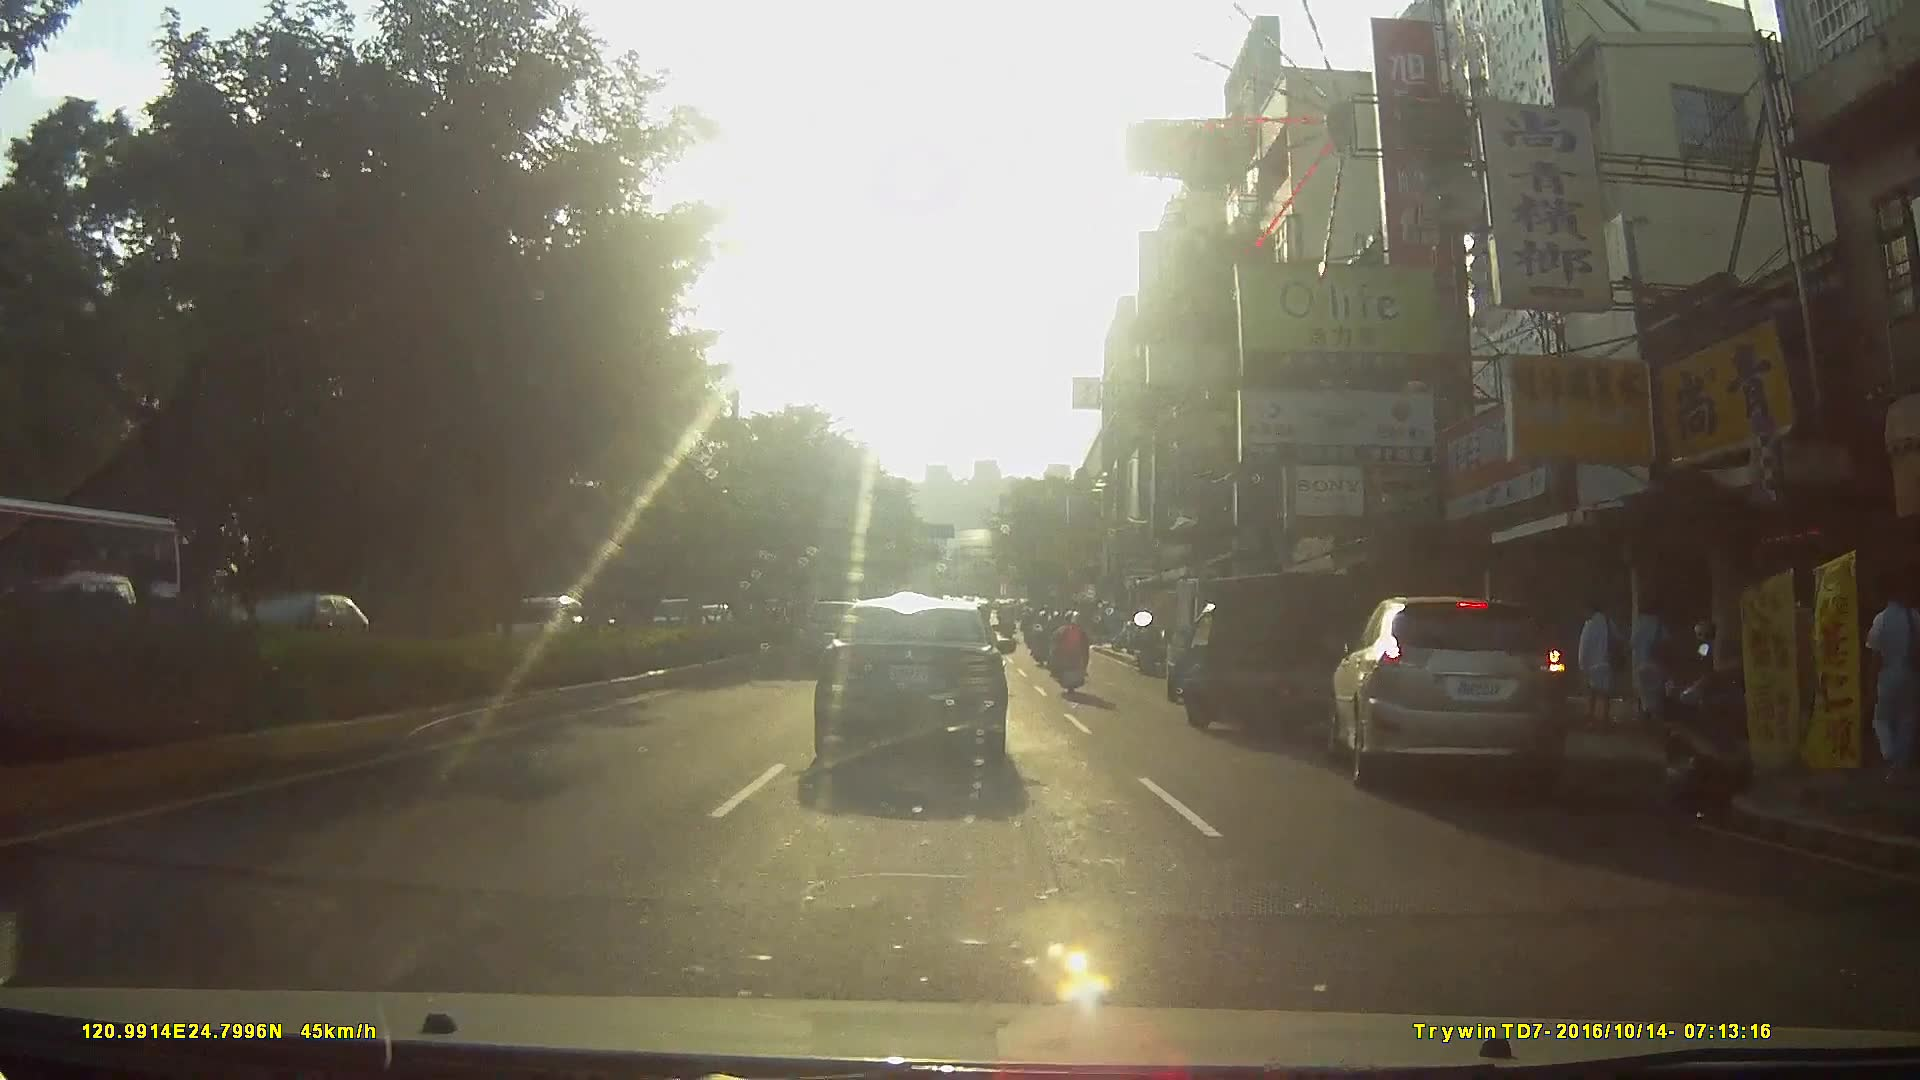pedestrian: (1866, 587, 1920, 780), (1575, 593, 1631, 742), (1624, 593, 1680, 739)
rider: (1046, 608, 1087, 699), (1026, 610, 1054, 666)
vehicle: (1331, 583, 1603, 816), (809, 591, 1027, 778), (1, 496, 188, 677), (1152, 567, 1321, 753)
